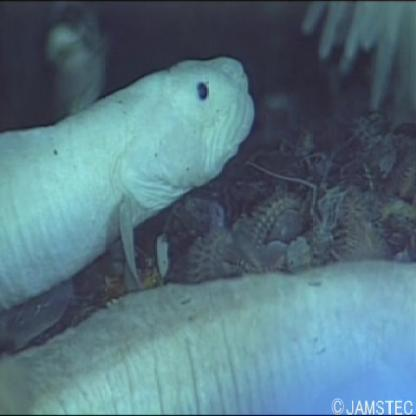Bio: (1, 49, 261, 318)
